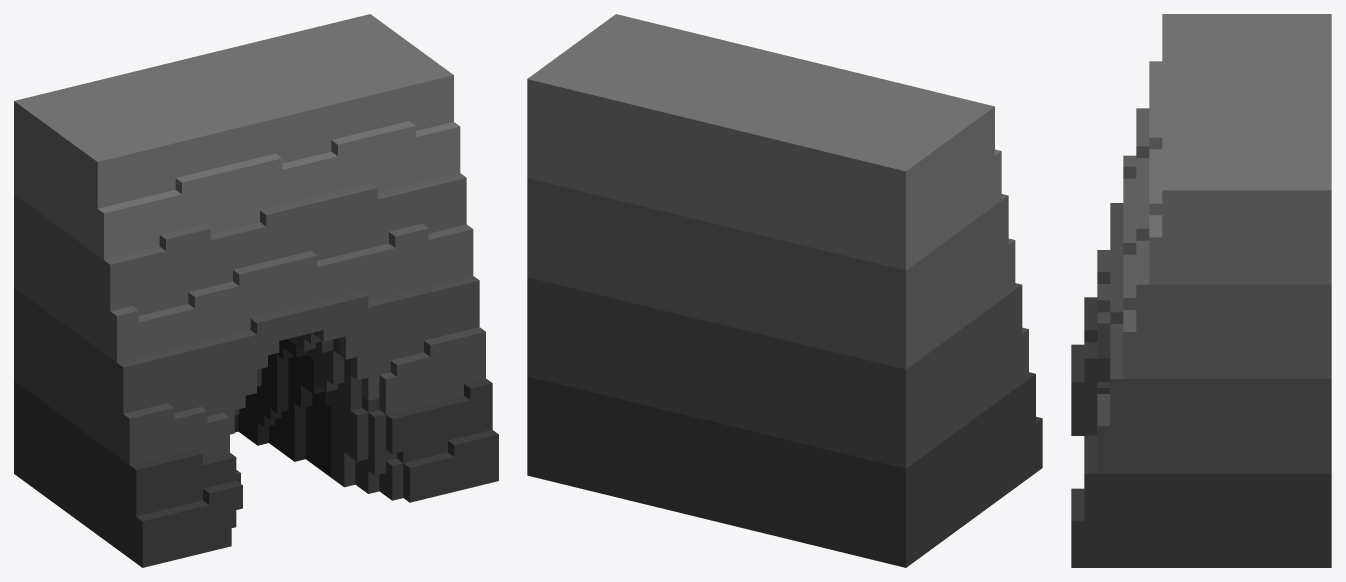
File: mountain-cave.gltf
The picture shows the model from 3 angles, left to right: view 1: azimuth 30°, elevation 25°; view 2: azimuth 150°, elevation 25°; view 3: azimuth 270°, elevation 25°; orthographic projection. The views are drawn at different scales.
Visible parts, largest first — view 1: mountain-cave; view 2: mountain-cave; view 3: mountain-cave.
Boxes of the visible parts, x1,y1,x2,y2 form: mountain-cave: [14, 14, 498, 567]; mountain-cave: [527, 14, 1042, 567]; mountain-cave: [1071, 14, 1331, 567].
Bounding box in the file's own units: 3.2 × 3.2 × 2.
Materials: 1 (1 with a texture image).
